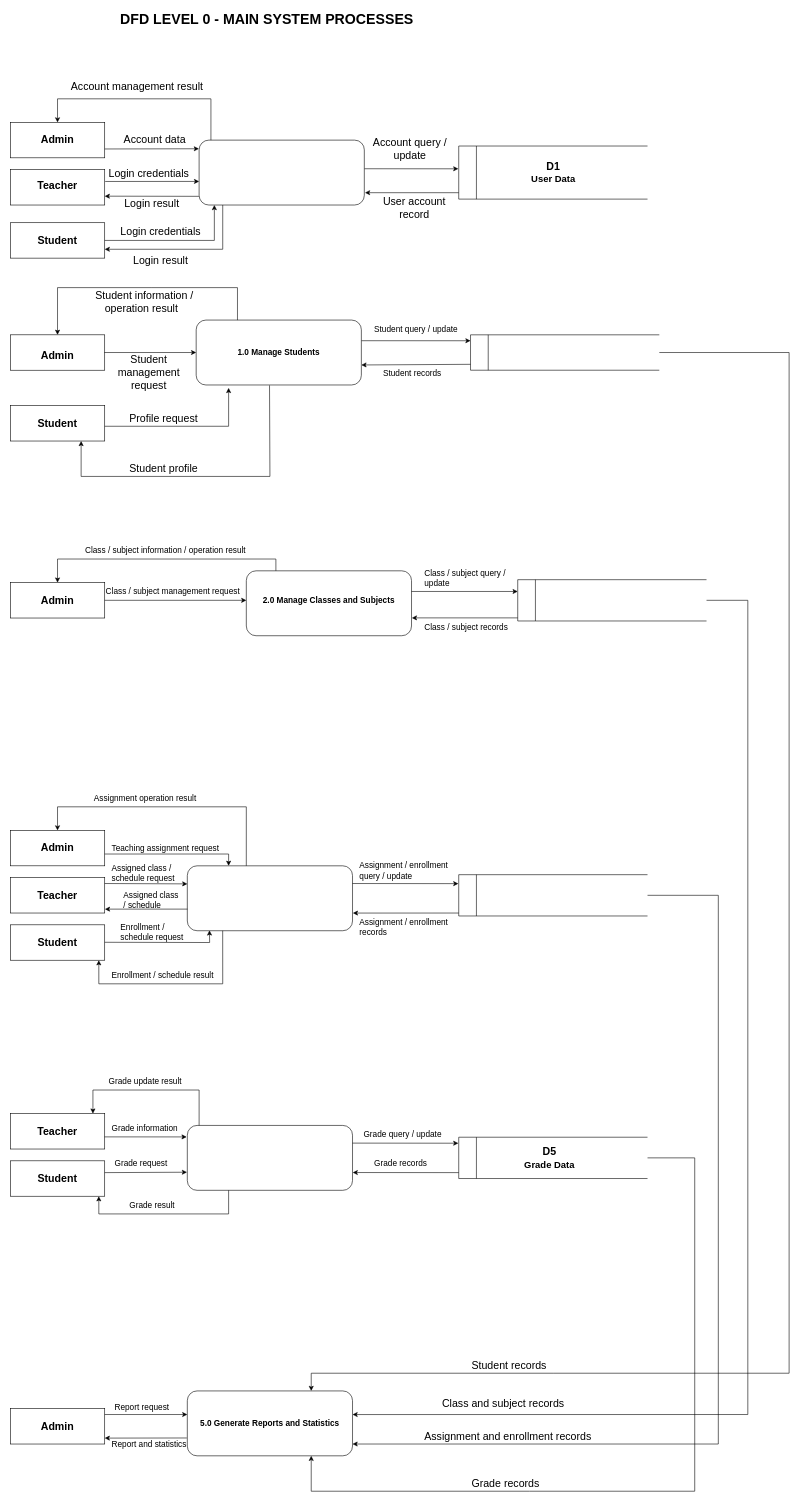
Some shapes in this 804 by 1507 pixel diagram are drawn without their labels. The box of each missing label's shape, as (x1, y1, x2, y2) in pixels:
3.0 Manage Teaching Assignments and Enrollments: (187, 865, 353, 931)
4.0 Manage Grades: (187, 1125, 353, 1190)
6.0 Manage Accounts and Authentication: (199, 140, 364, 205)
D2 Student Data: (470, 334, 659, 370)
D3 Class and Subject Data: (517, 579, 707, 621)
D4 Assignment and Enrollment Data: (458, 874, 648, 916)
